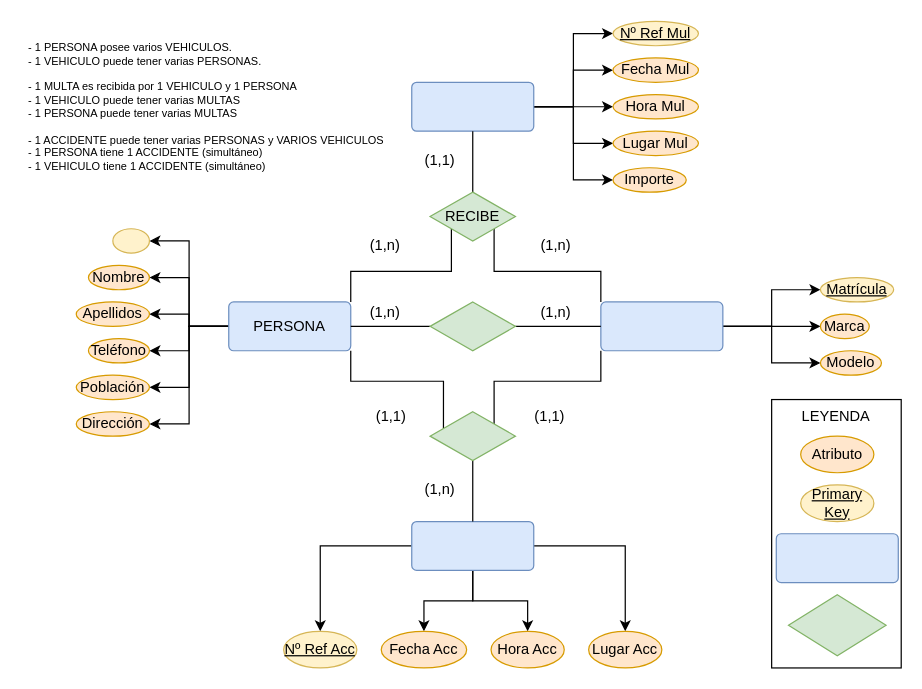
The diagram is 922 pixels wide and 689 high, and some of its shapes have lost their labels. The centre of each missing label's shape, as x and y in pixels:
"ACCIDENTES" goes at pixel 472 545.
"DNI" goes at pixel 130 240.
"ENTIDAD" goes at pixel 836 558.
"MULTAS" goes at pixel 472 106.
"POSEE" goes at pixel 472 326.
"RELACIÓN" goes at pixel 836 625.
"TIENE" goes at pixel 472 436.
"VEHICULO" goes at pixel 661 326.
